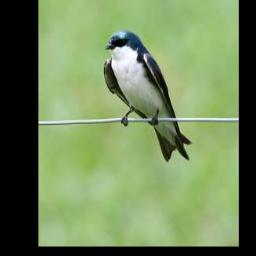Swallow: (103, 29, 193, 162)
